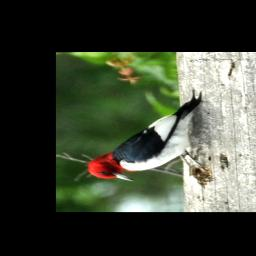Woodpecker: (86, 91, 203, 182)
